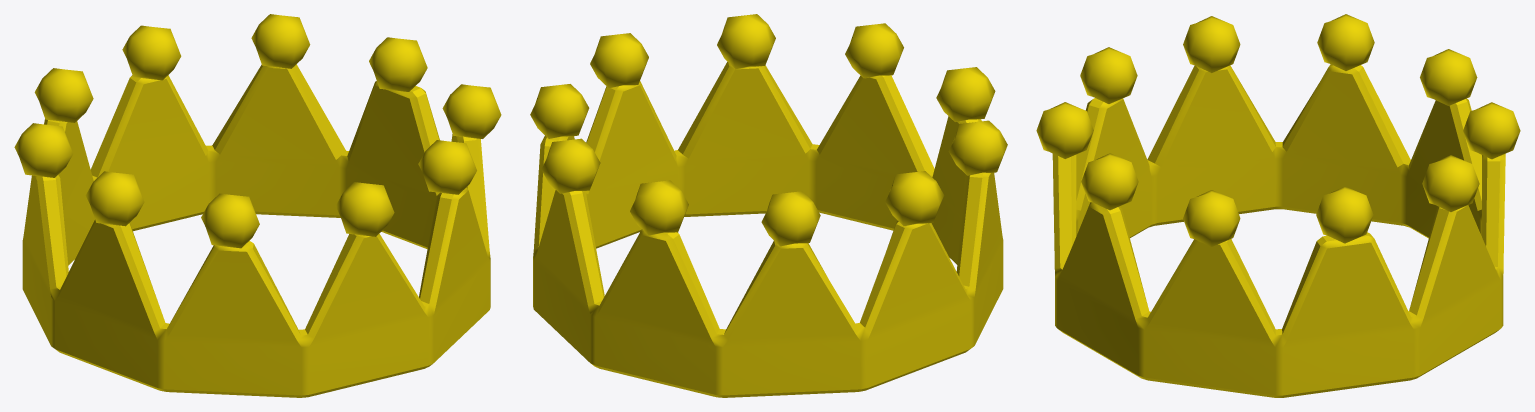
The model's file is oukan.fbx.
The picture shows the model from 3 angles, left to right: view 1: azimuth 30°, elevation 25°; view 2: azimuth 150°, elevation 25°; view 3: azimuth 270°, elevation 25°; orthographic projection.
Visible parts, largest first — view 1: group_pasted__pCube1; view 2: group_pasted__pCube1; view 3: group_pasted__pCube1.
Boxes of the visible parts, <box> form: group_pasted__pCube1: <box>14,14,501,397</box>; group_pasted__pCube1: <box>530,14,1007,397</box>; group_pasted__pCube1: <box>1036,14,1520,397</box>.
Bounding box in the file's own units: 2.22 × 1.02 × 2.27.
